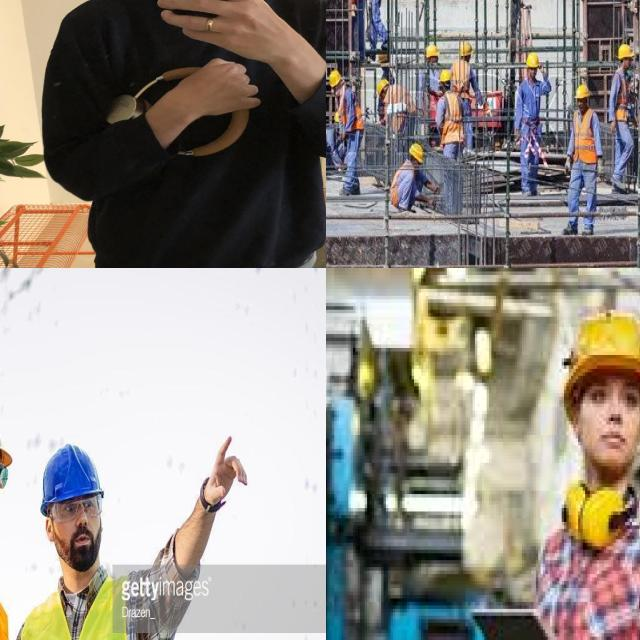Ear-protection: (554, 470, 622, 550)
No_Ear-Protection: (41, 514, 58, 547)
face_nomask: (44, 490, 110, 568)
glasses: (51, 492, 105, 526), (0, 449, 10, 490)
hand_noglove: (195, 431, 250, 516)
head_helmet: (545, 288, 640, 400), (35, 442, 111, 498), (0, 400, 15, 465), (326, 68, 348, 87), (573, 81, 591, 102), (424, 40, 440, 60), (526, 51, 543, 68), (408, 142, 424, 160), (458, 39, 473, 57), (615, 43, 633, 58), (439, 67, 453, 86), (378, 78, 390, 95), (332, 112, 343, 124)
person: (76, 0, 326, 268), (494, 276, 640, 640), (26, 442, 159, 640), (566, 75, 604, 240), (326, 63, 369, 203), (512, 49, 552, 198), (607, 35, 640, 191), (396, 138, 435, 219), (456, 36, 484, 142), (436, 70, 466, 168), (374, 70, 418, 127), (361, 0, 393, 51), (344, 0, 363, 57), (326, 131, 342, 179)
vest: (22, 594, 147, 640), (569, 112, 600, 163), (441, 91, 466, 140), (614, 67, 633, 124), (340, 96, 364, 134), (384, 92, 411, 118), (456, 59, 475, 90), (393, 163, 407, 202)
